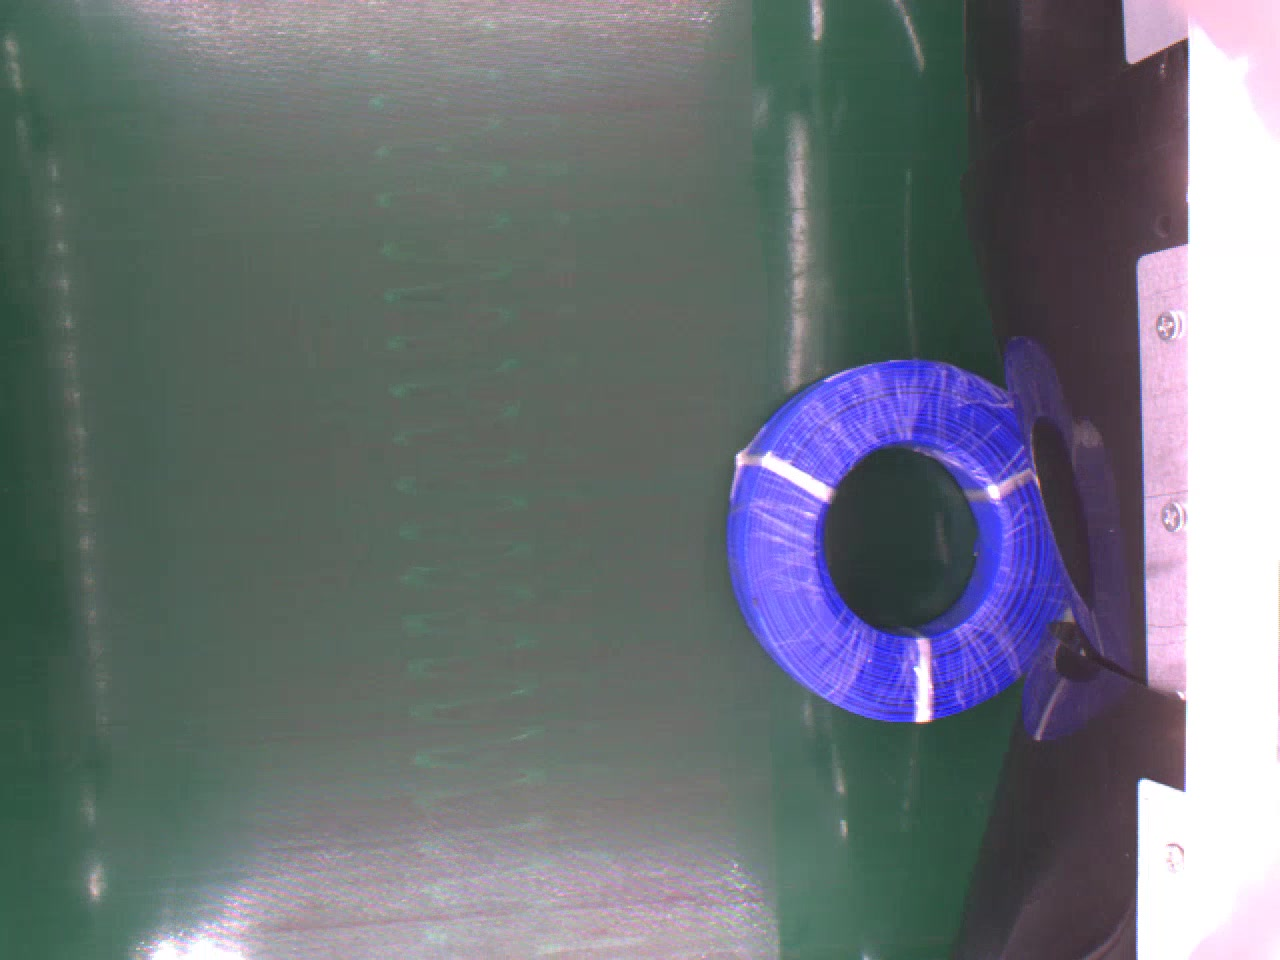blue: (727, 358, 1071, 725)
